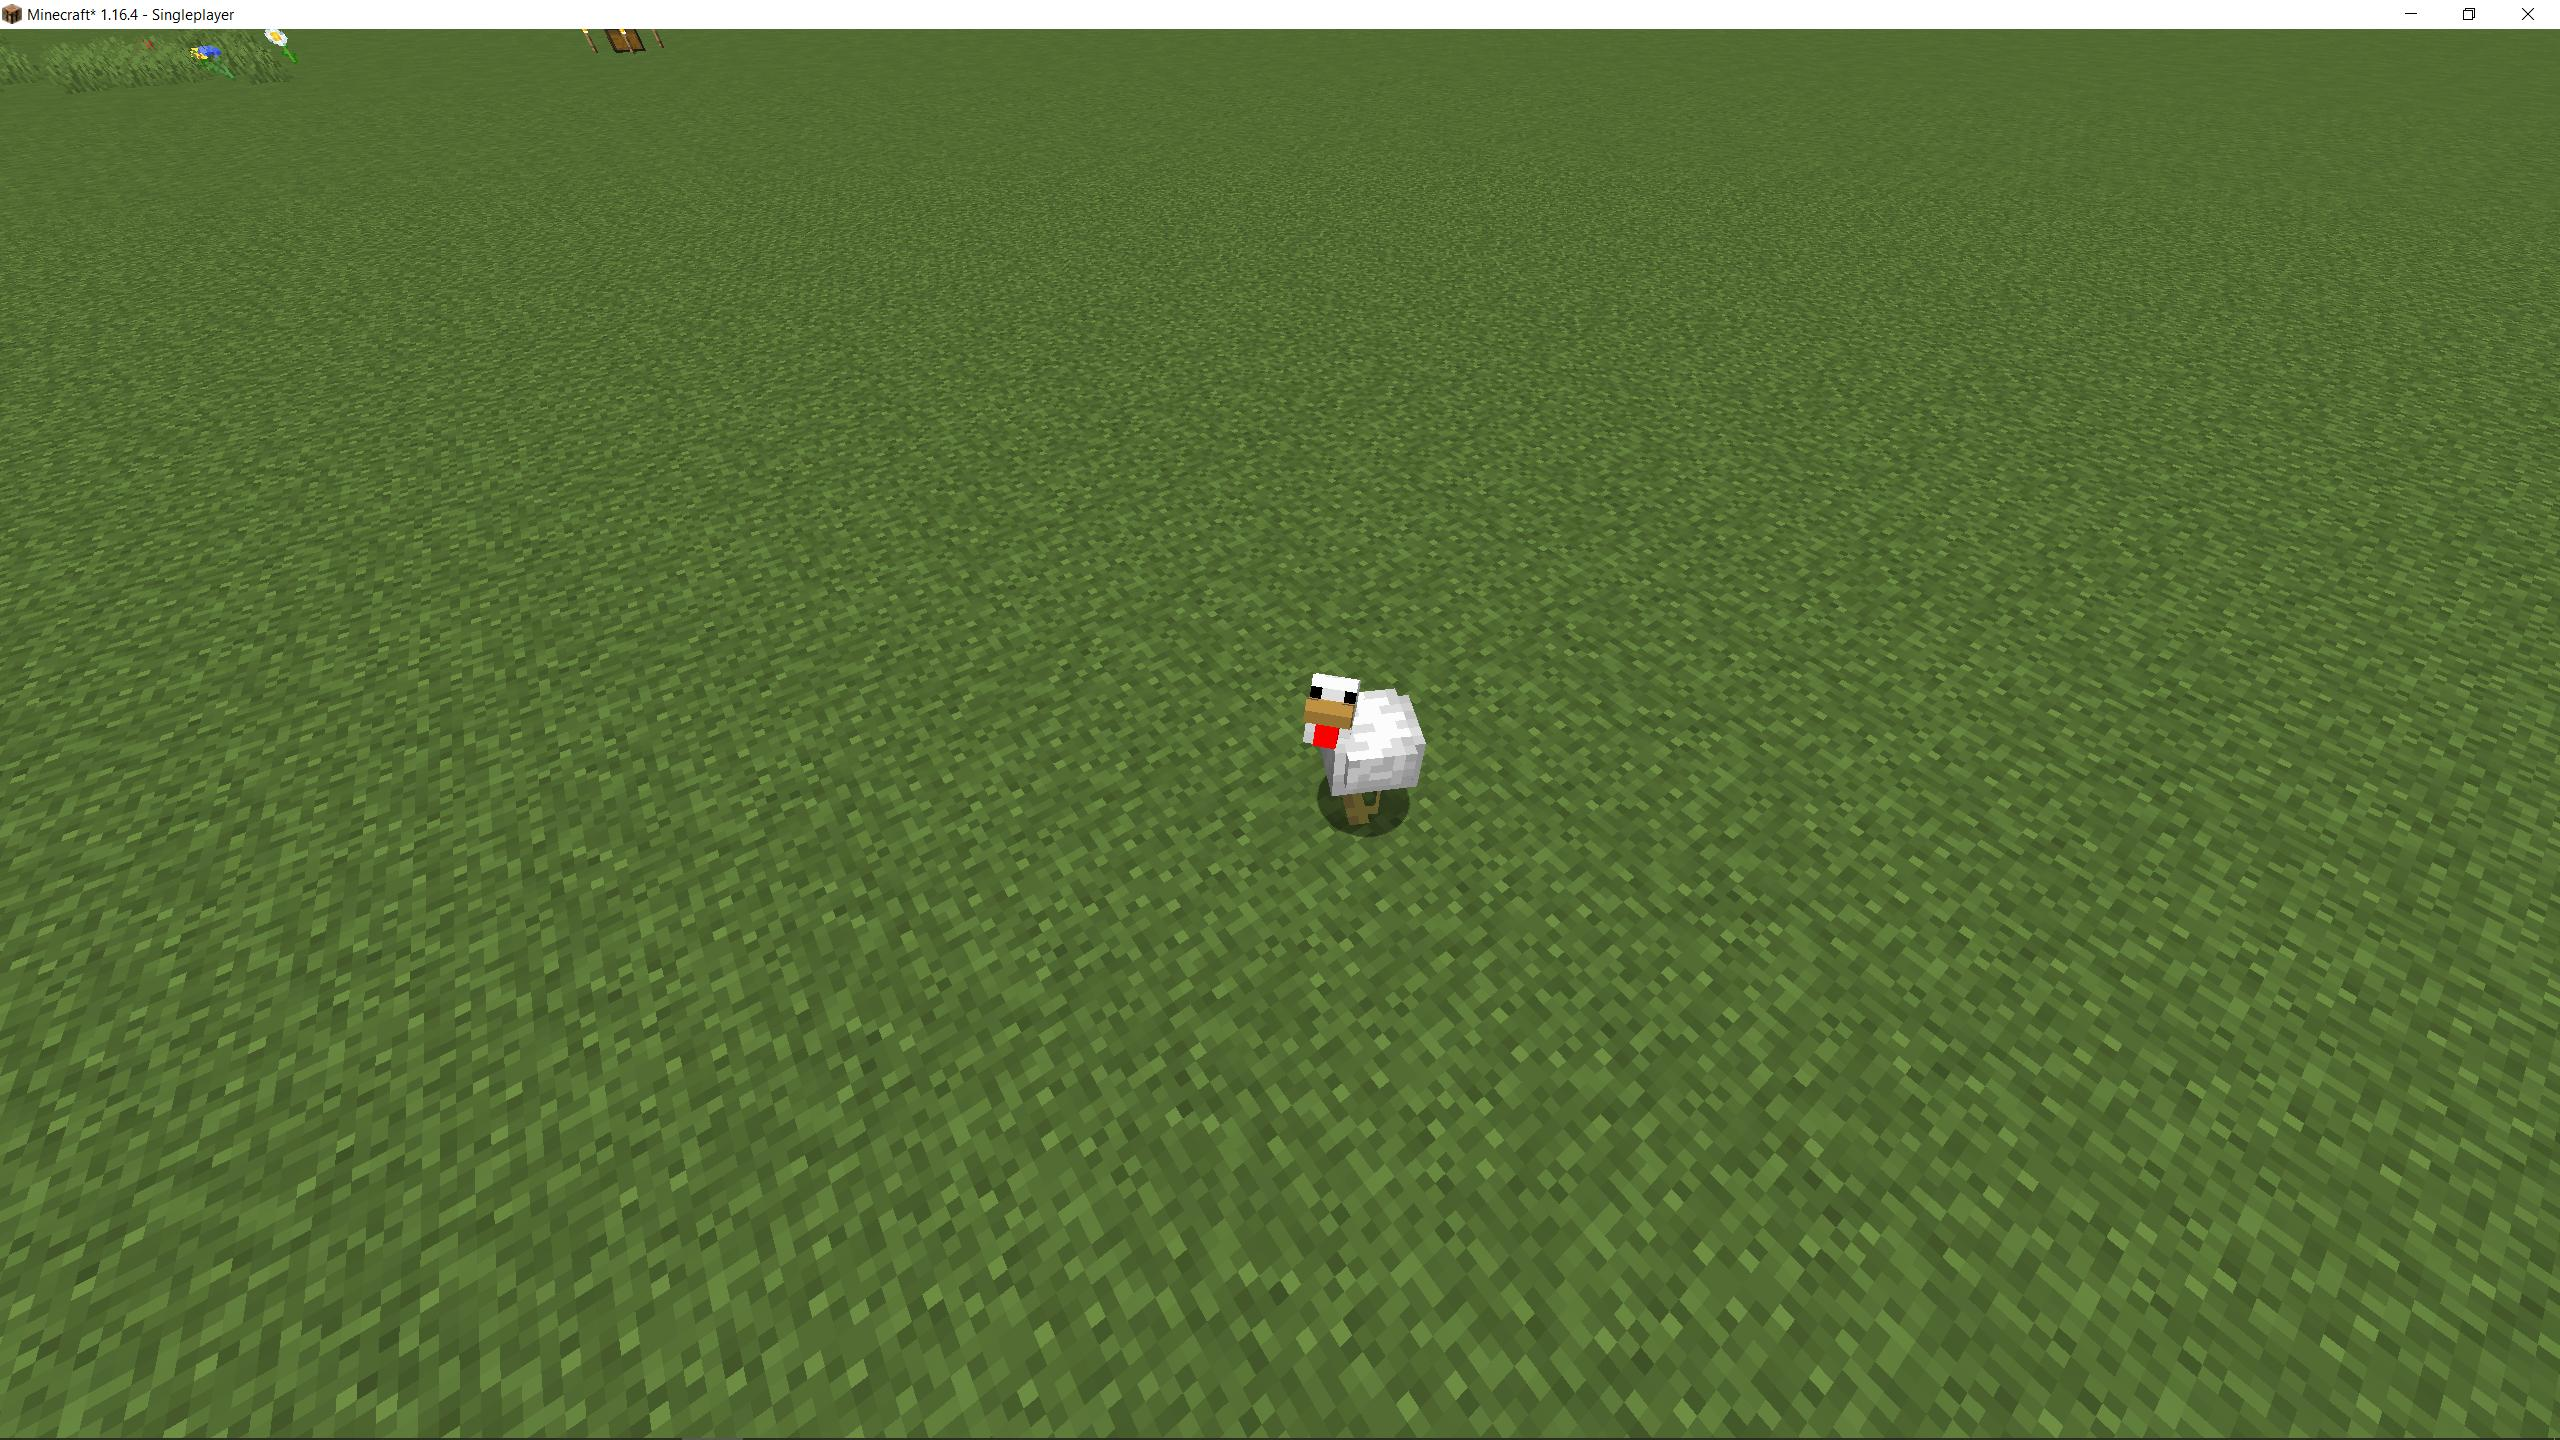chicken: (1296, 668, 1429, 832)
